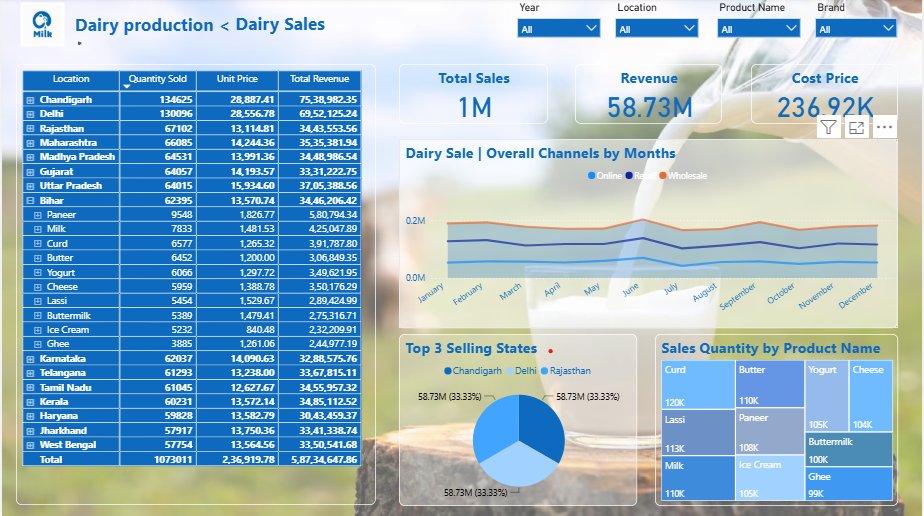

Layout of this report page (visuals, bound fields, positions):
{"tool":"powerbi","page":{"name":"Dairy sales","canvas":[1280,720],"ordinal":3},"visuals":[{"type":"textbox","box":[320,14.4,157.8,60],"z":0},{"type":"card","title":"Total Sales","fields":{"Values":["Sum(Dairy.Quantity Sold (liters/kg))"]},"box":[552.2,92.2,206.7,83.3],"z":1000},{"type":"card","title":"Cost Price","fields":{"Values":["Sum(Dairy.Price per Unit (sold))"]},"box":[1041.1,92.2,204.4,83.3],"z":2000},{"type":"card","title":"Revenue","fields":{"Values":["Sum(Dairy.Approx. Total Revenue(INR))"]},"box":[796.7,92.2,204.4,83.3],"z":3000},{"type":"stackedAreaChart","title":"Dairy Sale | Overall Channels by Months","fields":{"Y":["Sum(Dairy.Quantity (liters/kg))"],"Category":["Dairy.Date.Variation.Date Hierarchy.Month"],"Series":["Dairy.Sales Channel"]},"box":[552.2,195.6,693.3,263.3],"z":4000},{"type":"slicer","fields":{"Values":["Dairy.Year"]},"box":[706.7,0,135.6,73.3],"z":5000},{"type":"slicer","fields":{"Values":["Dairy.Location"]},"box":[842.2,0,135.6,72.2],"z":6000},{"type":"slicer","fields":{"Values":["Dairy.Product Name"]},"box":[984.4,0,135.6,73.3],"z":7000},{"type":"slicer","fields":{"Values":["Dairy.Brand"]},"box":[1120,0,134.4,72.2],"z":8000},{"type":"treemap","title":"Sales Quantity by Product Name","fields":{"Values":["Sum(Dairy.Quantity Sold (liters/kg))"],"Group":["Dairy.Product Name"]},"box":[907.8,466.7,337.8,238.9],"z":9000},{"type":"pivotTable","fields":{"Rows":["Dairy.Location","Dairy.Product Name","Dairy.Brand"],"Values":["Sum(Dairy.Quantity Sold (liters/kg))","Sum(Dairy.Price per Unit (sold))","Sum(Dairy.Approx. Total Revenue(INR))"]},"box":[20,92.2,500,613.3],"z":10000},{"type":"image","box":[20.4,0,70.9,73.6],"z":11000},{"type":"actionButton","title":"Dairy production <","box":[101.1,18.9,218.9,50],"z":12000},{"type":"pieChart","title":"Top 3 Selling States","fields":{"Category":["Table (2).Column1"],"Y":["Sum(Dairy.Approx. Total Revenue(INR))"]},"box":[552.2,466.7,331.1,238.9],"z":13000}]}

Visuals, with their boxes in screenshot pixels (x1, y1, x2, y2), scaled from the page's 1280x720 canvas onto the 924x516 screenshot:
textbox: left=231, top=10, right=345, bottom=53
"Total Sales" card: left=399, top=66, right=548, bottom=126
"Cost Price" card: left=752, top=66, right=899, bottom=126
"Revenue" card: left=575, top=66, right=723, bottom=126
"Dairy Sale | Overall Channels by Months" stackedAreaChart: left=399, top=140, right=899, bottom=329
slicer - Dairy.Year: left=510, top=0, right=608, bottom=53
slicer - Dairy.Location: left=608, top=0, right=706, bottom=52
slicer - Dairy.Product Name: left=711, top=0, right=808, bottom=53
slicer - Dairy.Brand: left=808, top=0, right=906, bottom=52
"Sales Quantity by Product Name" treemap: left=655, top=334, right=899, bottom=506
pivotTable - Dairy.Location x Dairy.Product Name: left=14, top=66, right=375, bottom=506
image: left=15, top=0, right=66, bottom=53
"Dairy production <" actionButton: left=73, top=14, right=231, bottom=49
"Top 3 Selling States" pieChart: left=399, top=334, right=638, bottom=506
